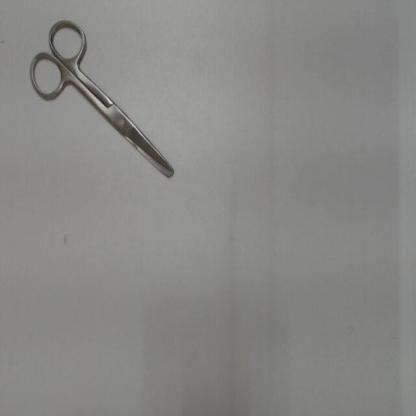Dressing Scissors: (20, 11, 184, 191)
